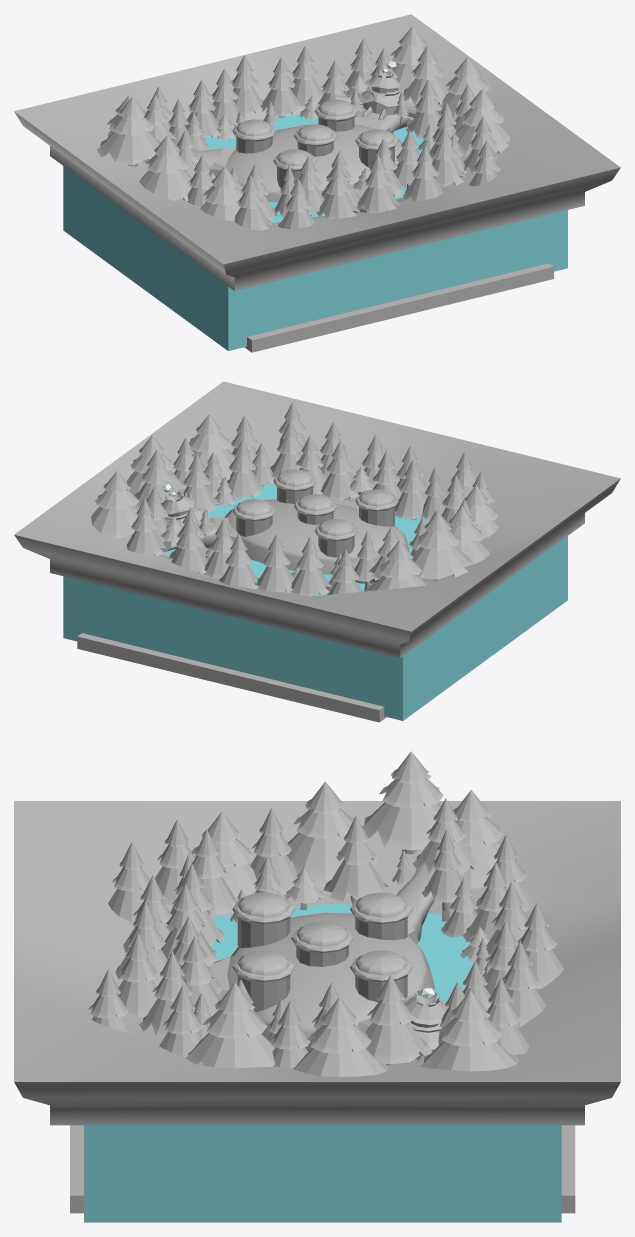
Rendered from Map.fbx.
The picture shows the model from 3 angles, top to bottom: view 1: azimuth 30°, elevation 25°; view 2: azimuth 150°, elevation 25°; view 3: azimuth 270°, elevation 25°; orthographic projection. The views are drawn at different scales.
Parts seen in each view (by area): view 1: pCube55, pCube53, polySurface49, pCube63, polySurface342, polySurface346, polySurface344, polySurface347, polySurface368, polySurface199, polySurface276, polySurface131 (+30 smaller); view 2: pCube55, pCube53, pCube63, polySurface49, polySurface342, polySurface343, polySurface349, polySurface344, polySurface243, polySurface129, polySurface280, polySurface169 (+36 smaller); view 3: pCube55, pCube53, polySurface49, polySurface342, polySurface344, polySurface343, polySurface346, polySurface345, polySurface276, polySurface115, polySurface349, pCube63 (+39 smaller).
Boxes of the visible parts, x1,y1,x2,y2 form: pCube55: (14, 14, 620, 291); pCube53: (63, 114, 567, 350); polySurface49: (143, 93, 415, 213); pCube63: (245, 263, 553, 352); polySurface342: (96, 96, 161, 166); polySurface346: (139, 135, 191, 201); polySurface344: (455, 88, 510, 155); polySurface347: (200, 166, 242, 221); polySurface368: (357, 71, 409, 115); polySurface199: (357, 154, 399, 213); polySurface276: (403, 45, 449, 105); polySurface131: (260, 56, 303, 117); pCube55: (14, 381, 620, 658); pCube53: (63, 484, 567, 720); pCube63: (77, 633, 386, 722); polySurface49: (160, 482, 409, 583); polySurface342: (411, 511, 473, 580); polySurface343: (91, 471, 139, 539); polySurface349: (366, 540, 427, 591); polySurface344: (189, 414, 235, 480); polySurface243: (290, 537, 331, 596); polySurface129: (254, 534, 294, 592); polySurface280: (227, 439, 264, 499); polySurface169: (320, 440, 358, 500); pCube55: (14, 801, 620, 1125); pCube53: (84, 903, 561, 1222); polySurface49: (208, 863, 434, 1060); polySurface342: (362, 751, 443, 854); polySurface344: (185, 982, 276, 1068); polySurface343: (419, 990, 519, 1071); polySurface346: (286, 781, 377, 880); polySurface345: (293, 997, 388, 1076); polySurface276: (365, 975, 429, 1065); polySurface115: (323, 815, 388, 904); polySurface349: (453, 790, 503, 888); pCube63: (70, 1125, 575, 1213).
Size of the model in its own units: 3392 by 1392 by 3097.
